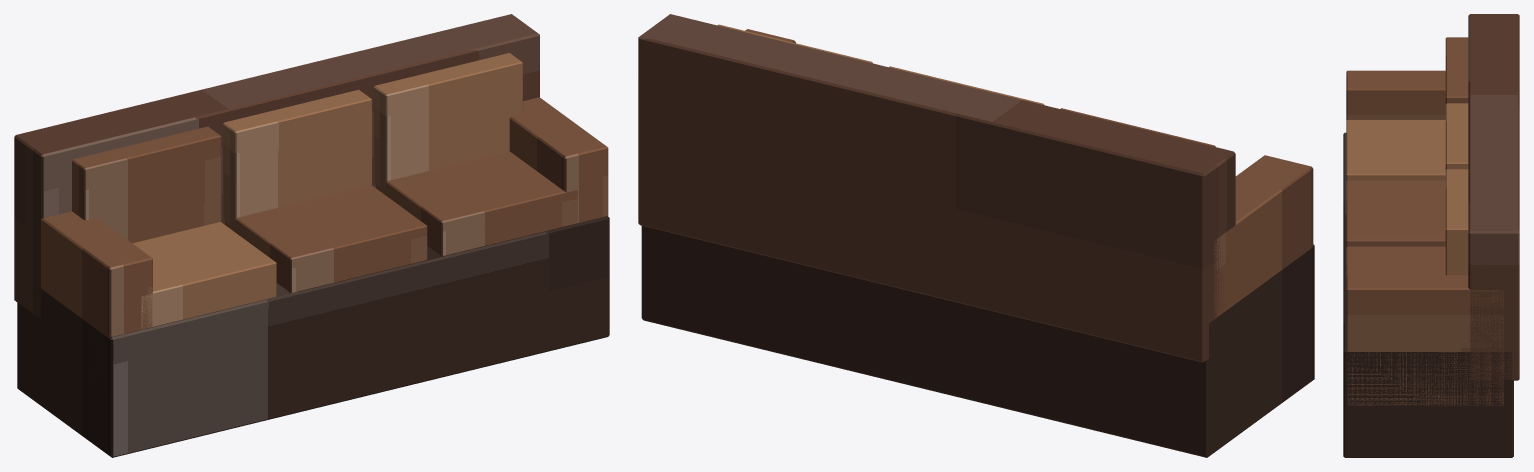
File: lounge_couch_brown_wide.glb
The picture shows the model from 3 angles, left to right: view 1: azimuth 30°, elevation 25°; view 2: azimuth 150°, elevation 25°; view 3: azimuth 270°, elevation 25°; orthographic projection. The views are drawn at different scales.
Visible parts, largest first — view 1: CouchBase, CouchBack, BackCushion_2, BackCushion_3, SeatCushion_2, BackCushion_1, SeatCushion_3, CouchArm_L, SeatCushion_1, CouchArm_R; view 2: CouchBack, CouchBase, CouchArm_L; view 3: CouchBack, CouchBase, CouchArm_R, SeatCushion_2, SeatCushion_1, CouchArm_L, BackCushion_3, SeatCushion_3, BackCushion_1, BackCushion_2.
Boxes of the visible parts, x1,y1,x2,y2 form: CouchBase: (17,216,609,457); CouchBack: (14,14,539,319); BackCushion_2: (223,89,371,227); BackCushion_3: (373,53,522,190); SeatCushion_2: (225,185,427,292); BackCushion_1: (72,126,221,243); SeatCushion_3: (376,151,577,255); CouchArm_L: (41,211,152,338); SeatCushion_1: (132,222,276,328); CouchArm_R: (509,97,608,222); CouchBack: (638,14,1235,362); CouchBase: (641,226,1314,457); CouchArm_L: (1214,155,1313,318); CouchBack: (1468,14,1519,380); CouchBase: (1343,132,1513,457); CouchArm_R: (1346,270,1503,405); SeatCushion_2: (1346,180,1445,247); SeatCushion_1: (1346,120,1445,180); CouchArm_L: (1346,70,1445,120); BackCushion_3: (1445,169,1468,275); SeatCushion_3: (1346,246,1445,270); BackCushion_1: (1445,37,1468,103); BackCushion_2: (1445,103,1468,169).
Size of the model in its own units: 1.82 by 0.91 by 0.62.
1 material, 1 textured.
